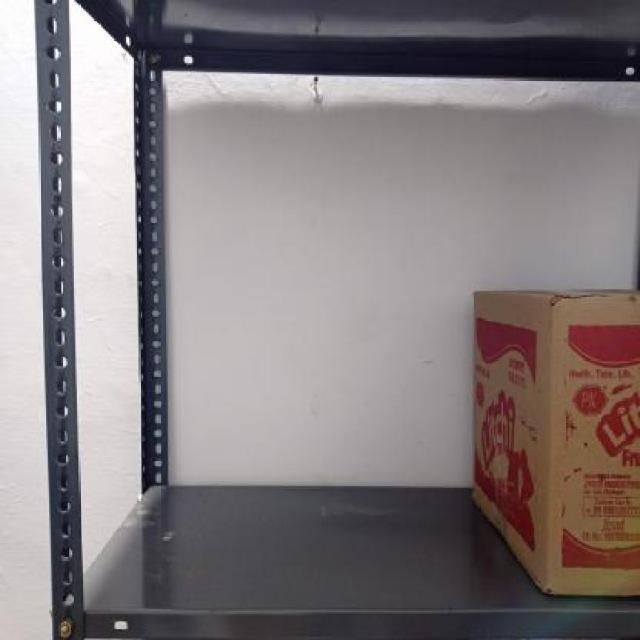box: (472, 290, 554, 596)
